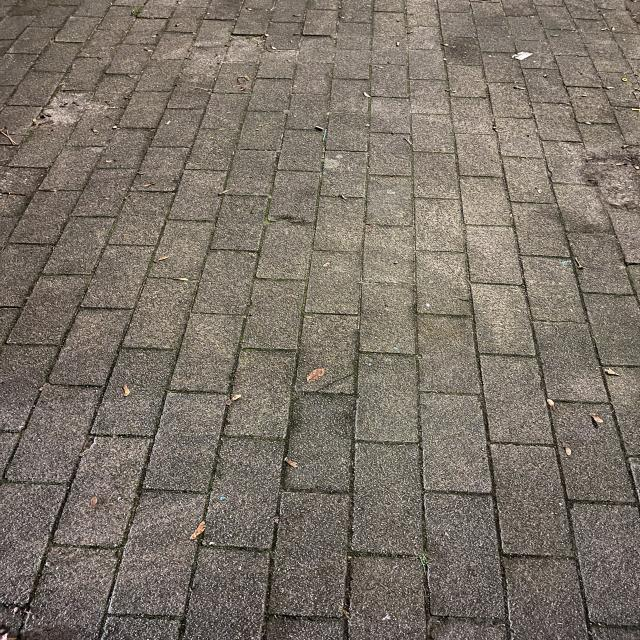pavement: (0, 2, 639, 640)
